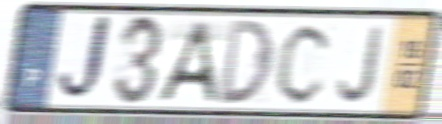3: (111, 12, 164, 109)
A: (154, 18, 219, 105)
C: (273, 20, 335, 107)
D: (217, 18, 275, 108)
J: (53, 12, 115, 107), (336, 24, 388, 106)
